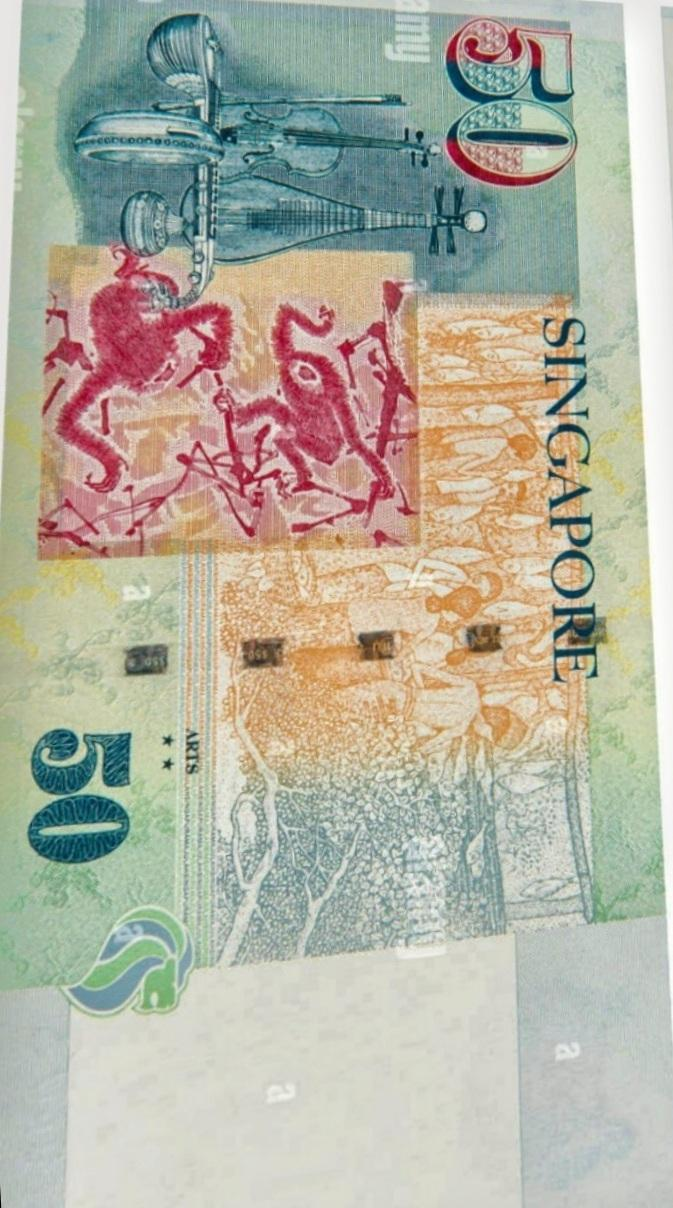50SingaporeDollar: (0, 0, 620, 1203)
